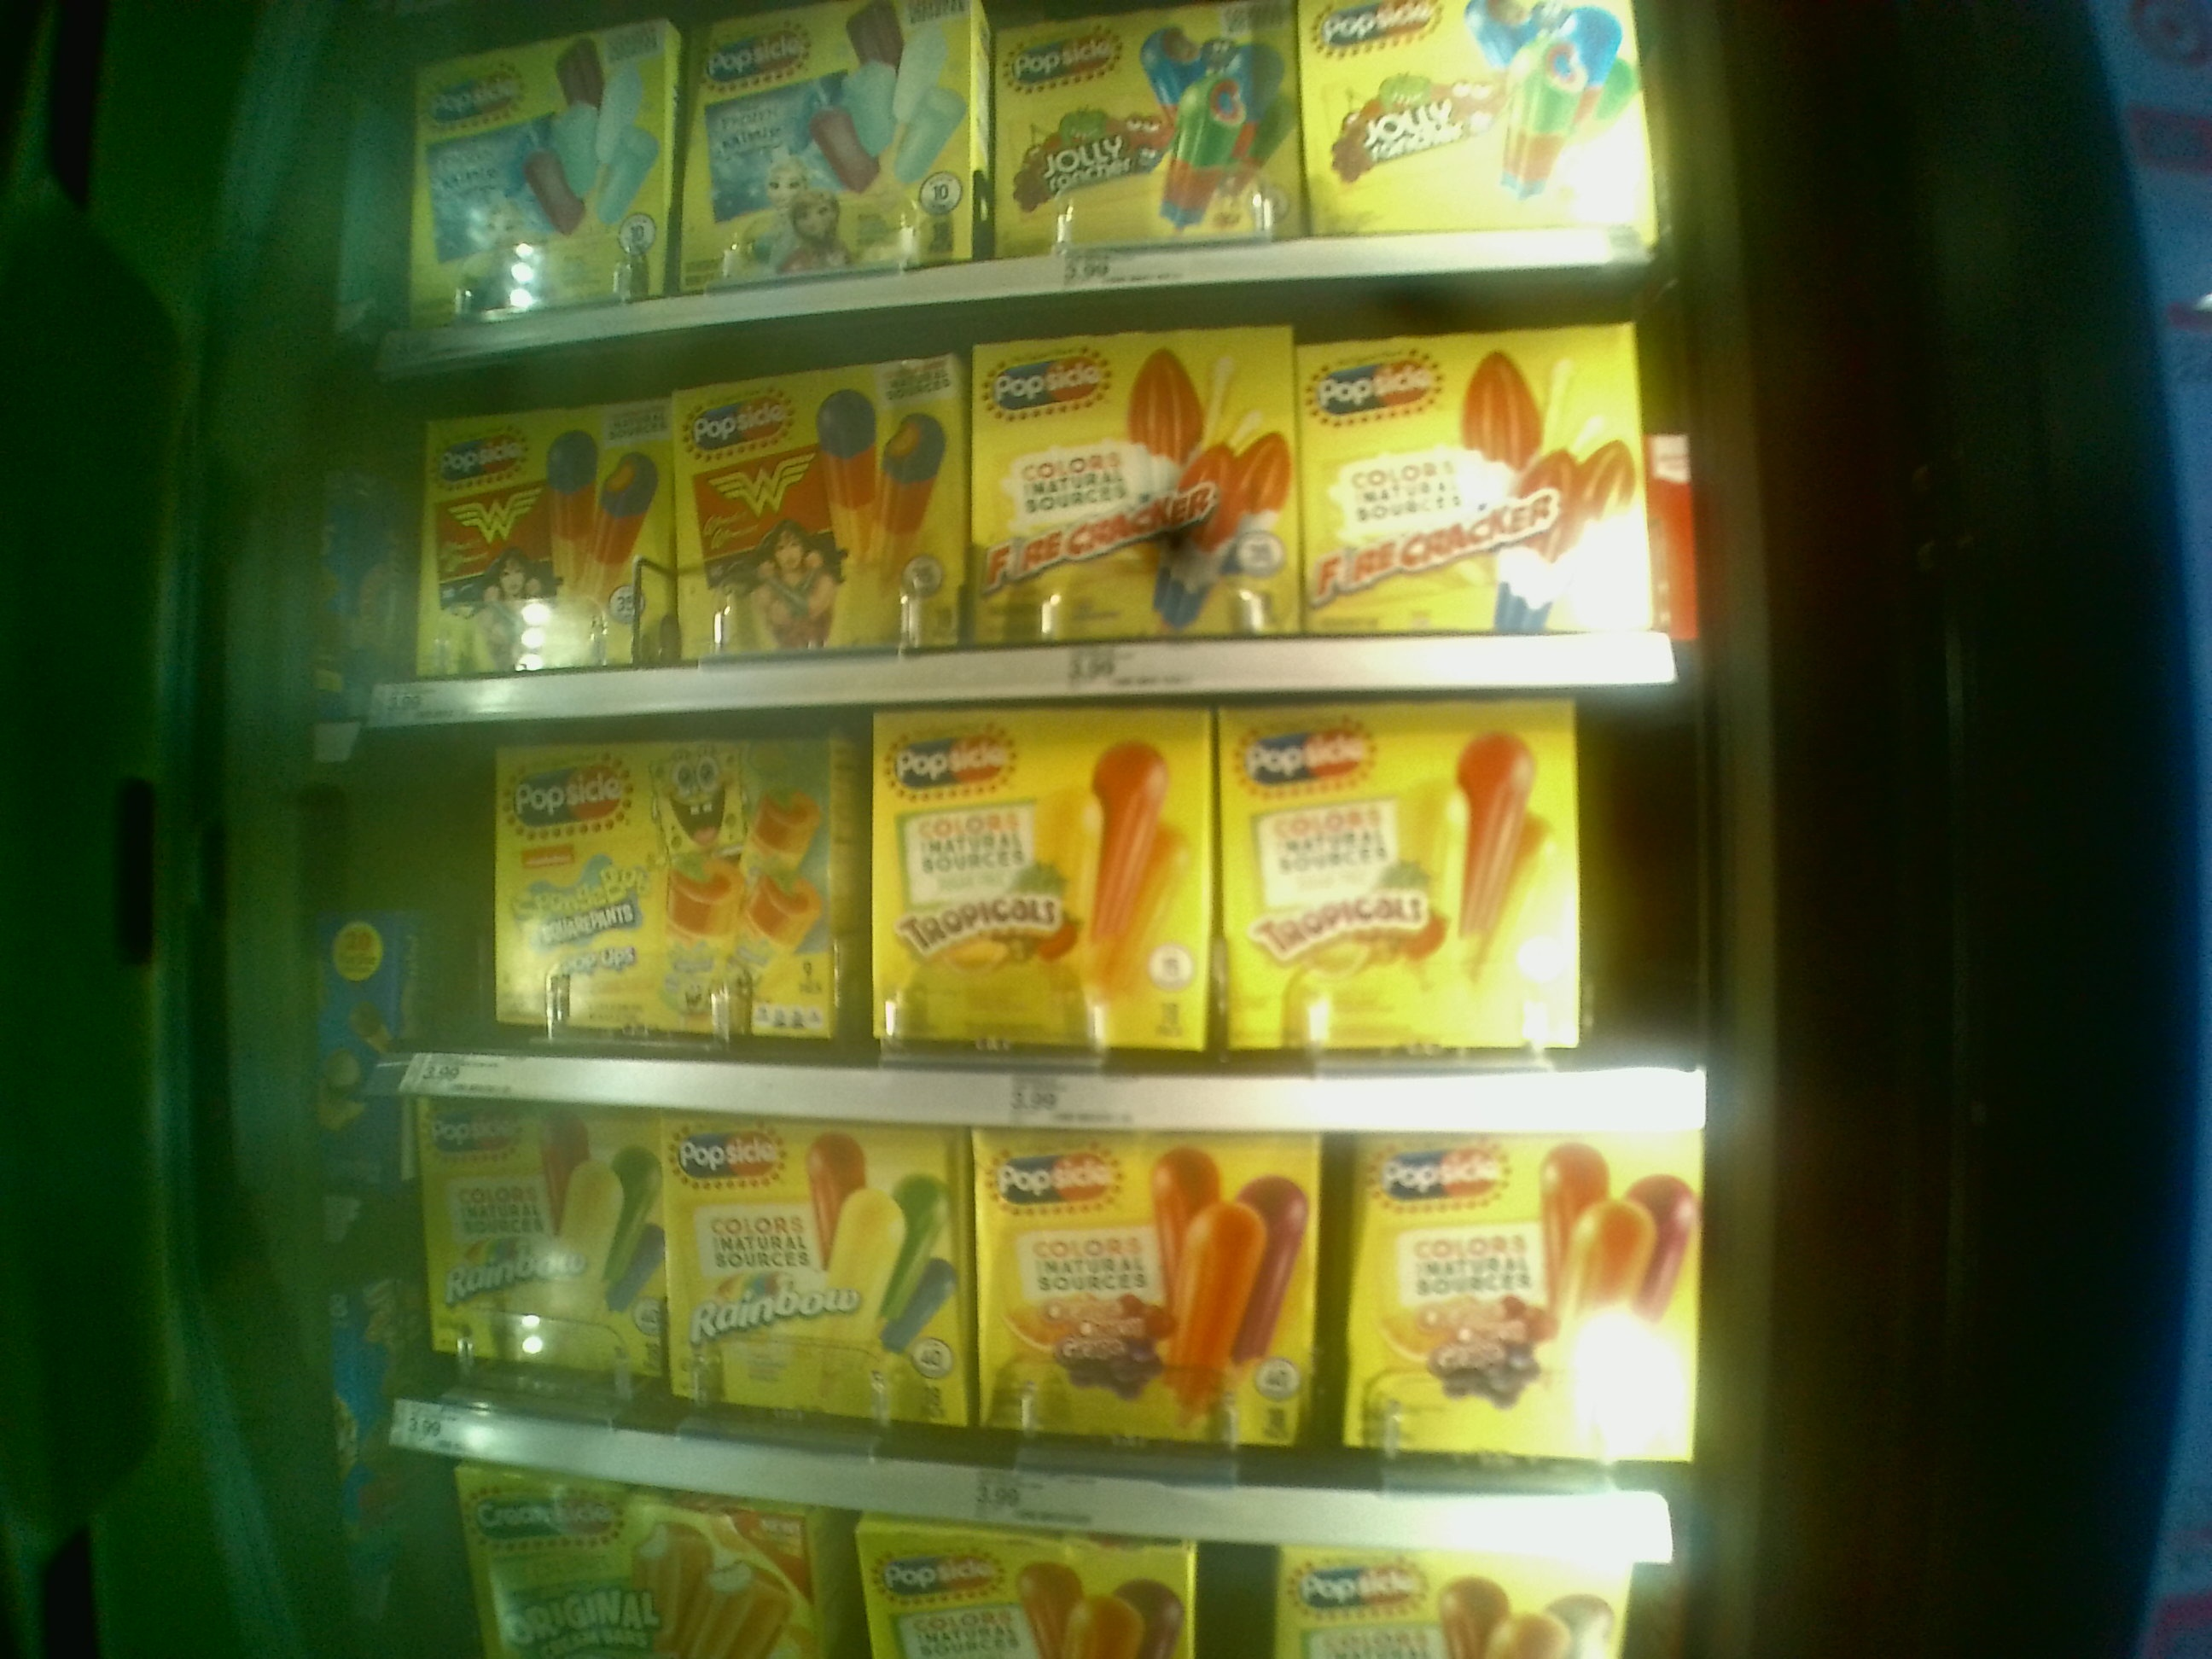shelf: (401, 1093, 1775, 1513), (343, 314, 1693, 713)
